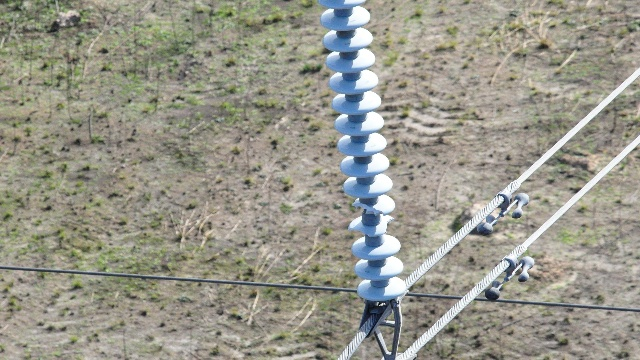broken_local: (348, 216, 394, 236), (352, 197, 387, 215)
insulator_unspecified: (320, 0, 406, 300)
